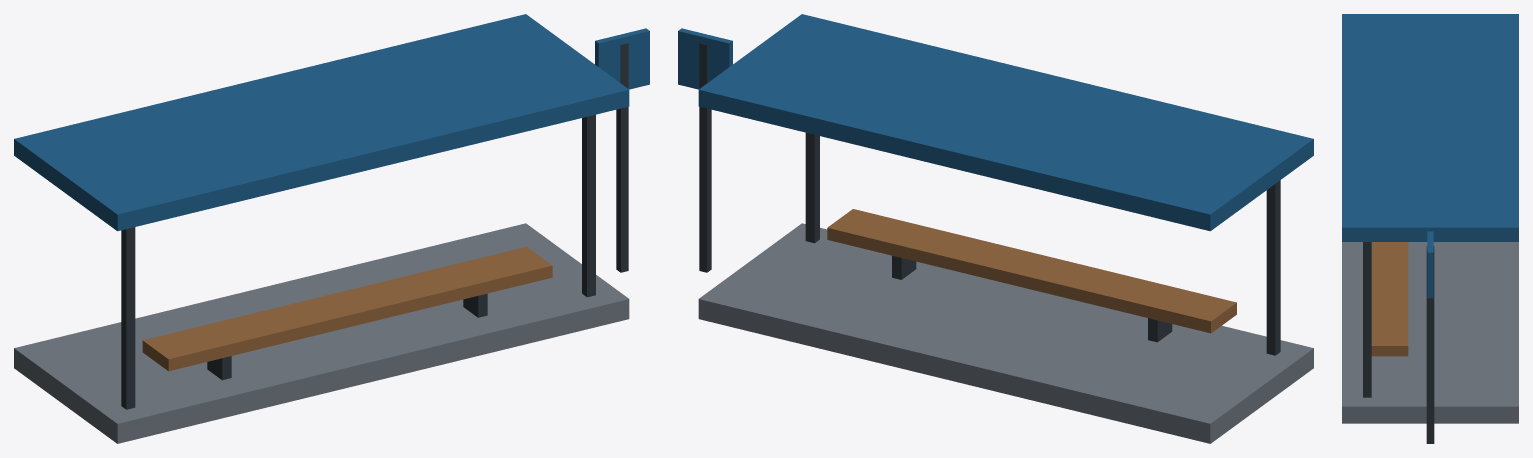
The model's file is bus-stop.glb.
The picture shows the model from 3 angles, left to right: view 1: azimuth 30°, elevation 25°; view 2: azimuth 150°, elevation 25°; view 3: azimuth 270°, elevation 25°; orthographic projection. The views are drawn at different scales.
Parts seen in each view (by area): view 1: bus-stop; view 2: bus-stop; view 3: bus-stop.
Boxes of the visible parts, left/top/right/bottom form: bus-stop: left=14, top=14, right=649, bottom=443; bus-stop: left=678, top=14, right=1313, bottom=443; bus-stop: left=1342, top=14, right=1518, bottom=443.
Bounding box in the file's own units: 9.1 × 3.5 × 2.8.
